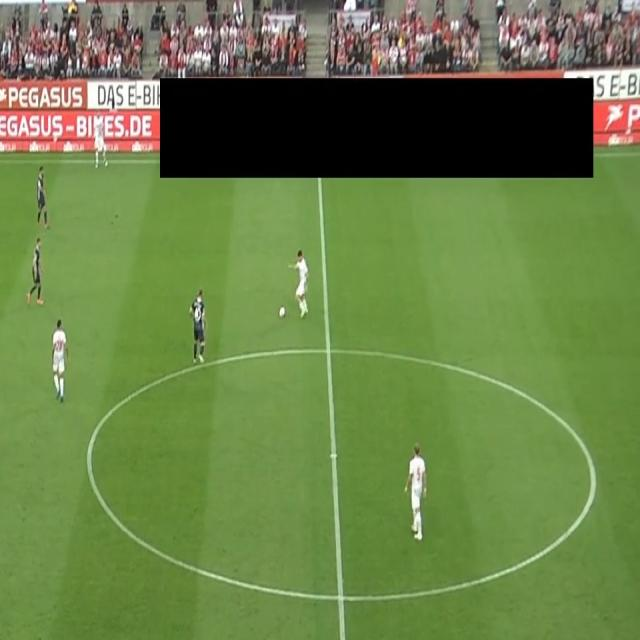ball: (278, 305, 286, 320)
